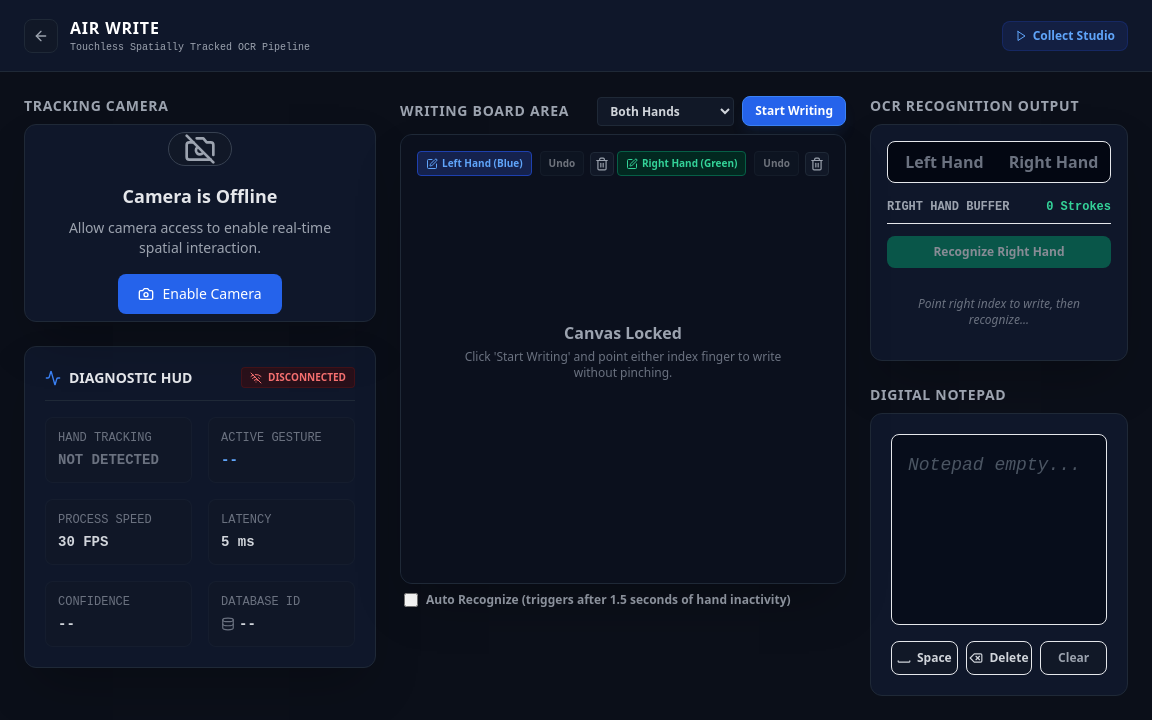
Test: AirWrite Page Component › should handle notepad actions (space, delete, clear)
Check: the text "Notepad empty..." is shown, box [908, 455, 1081, 475]
// Insert Space
Step 1. Click the button with aria-label "Insert Space" → (924, 658), box [891, 641, 958, 675]
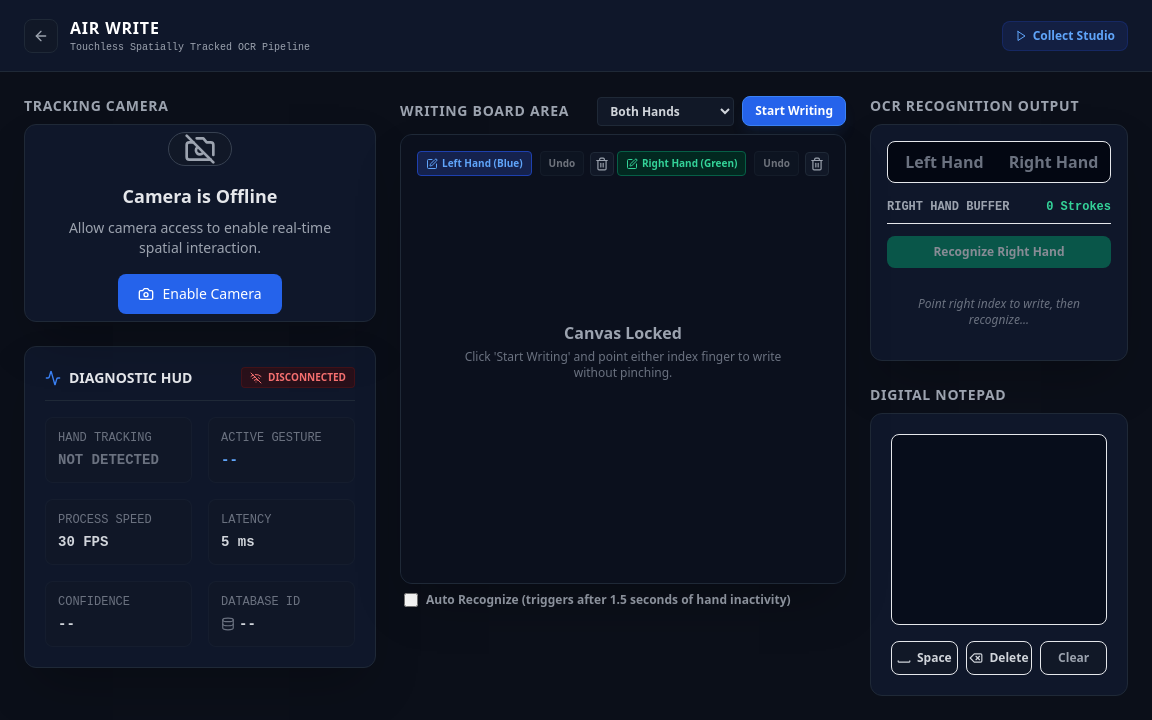
Check: the text "Notepad empty..." is gone
Step 2. Click the button with aria-label "Delete Last Character" → (999, 658), box [966, 641, 1032, 675]
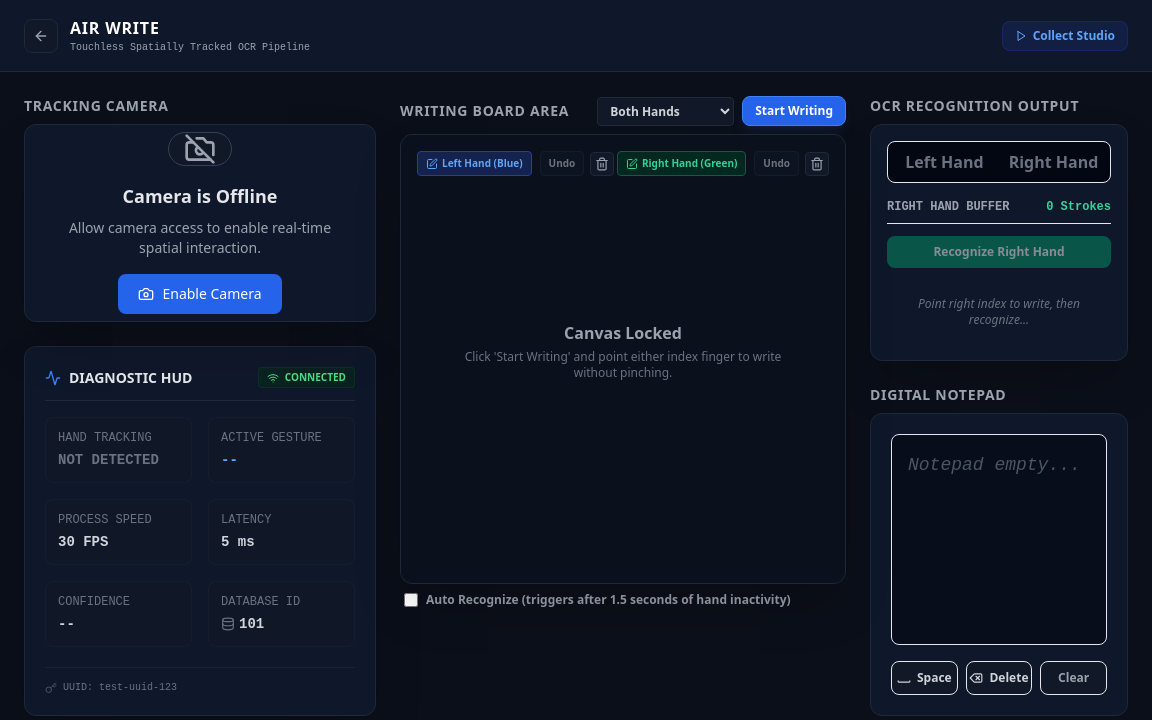
Check: the text "Notepad empty..." is shown, box [908, 455, 1081, 475]
